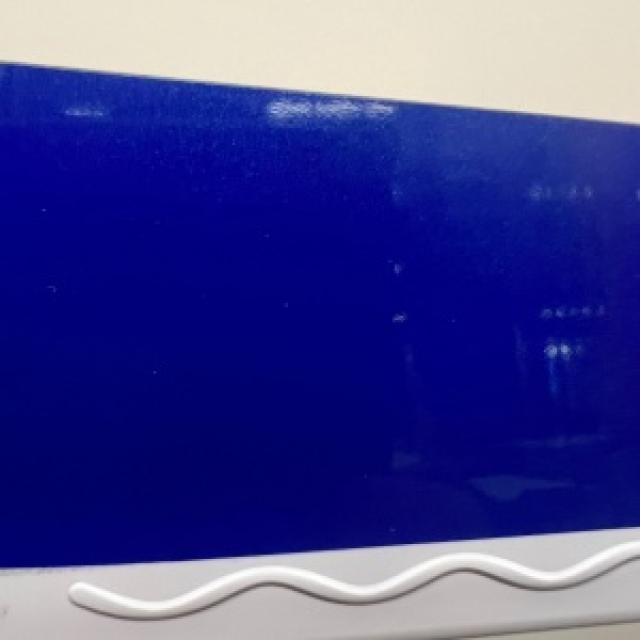healthy: (0, 64, 638, 638)
